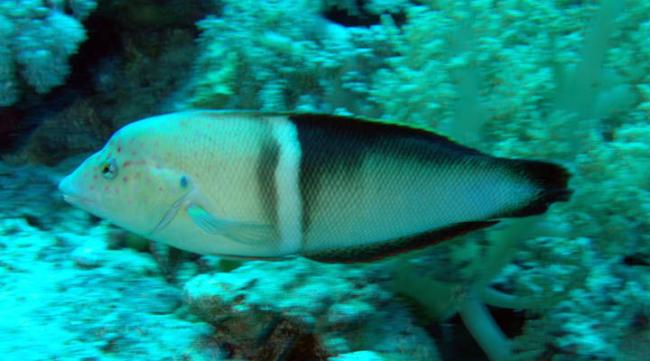fish: (58, 109, 574, 263)
